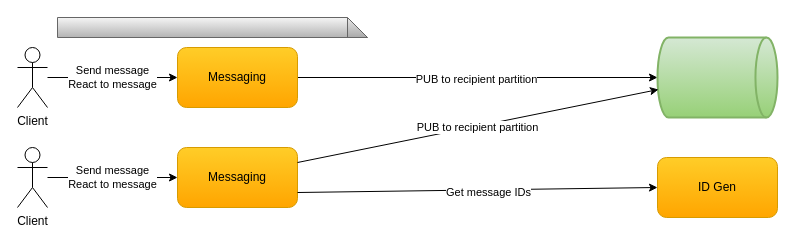
The diagram is 796 pixels wide and 246 high, and some of its shapes have lost their labels. Here are the shapes that lost their labels. From the top down, the centre of each, then its label:
At point 212,27: "Send messages for a recipient to a specific partition".
At point 717,77: "PUB/SUB backplane".
